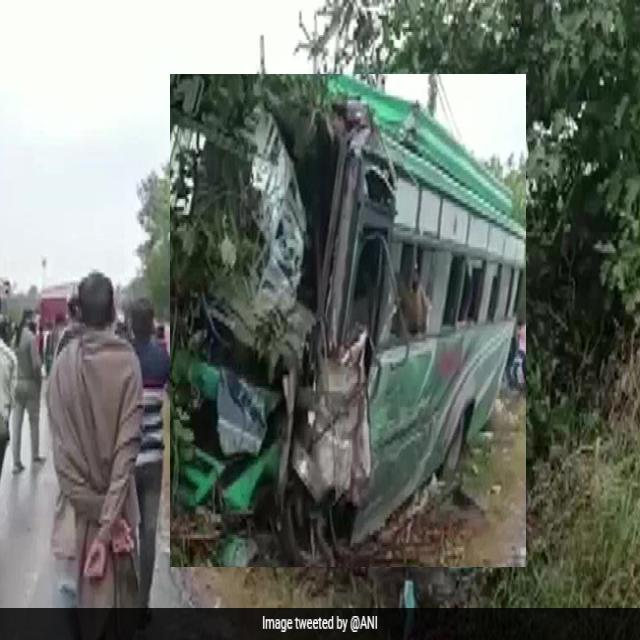accident: (170, 75, 526, 567)
